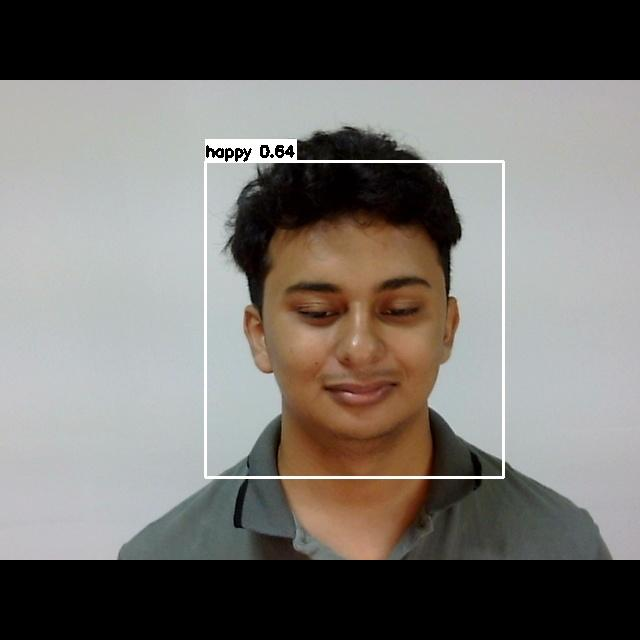Happy: (244, 241, 449, 426)
